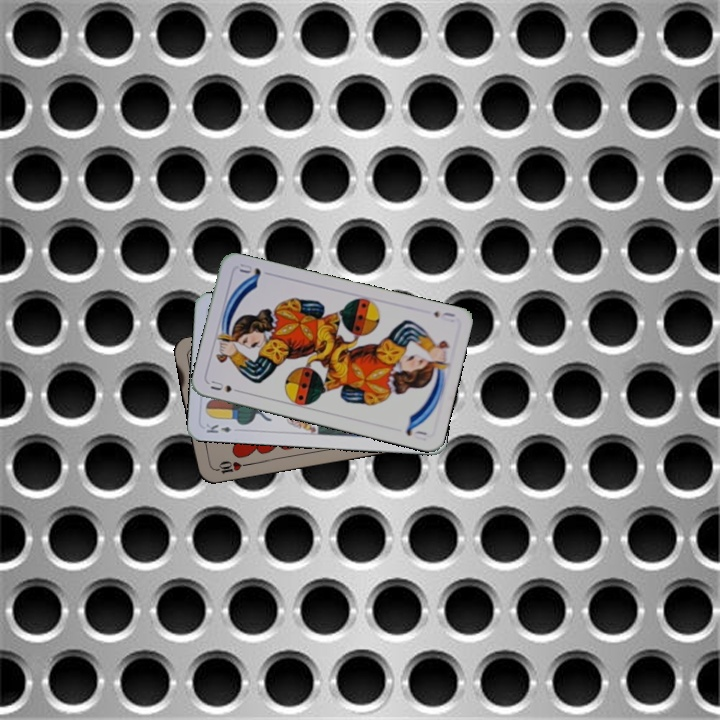EK: (202, 419, 234, 435)
H10: (209, 457, 250, 476)
SU: (206, 376, 245, 396), (430, 307, 458, 325)
